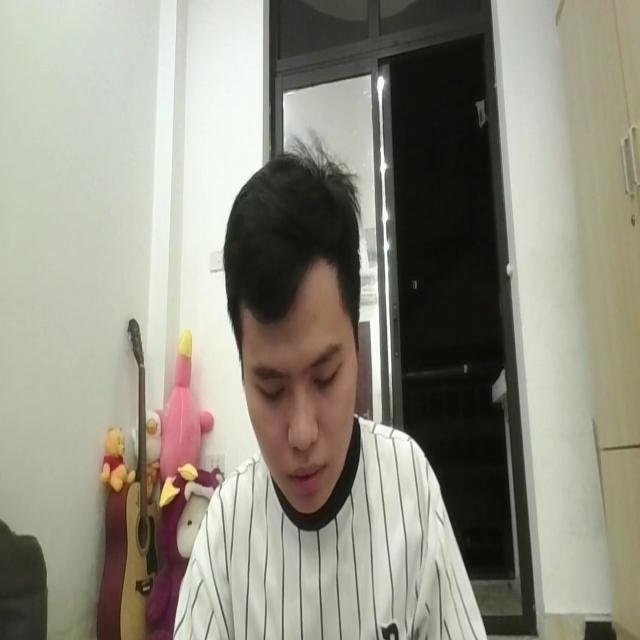student: (179, 141, 495, 640)
